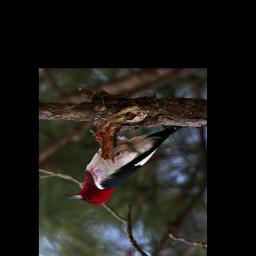Woodpecker: (63, 125, 190, 206)
